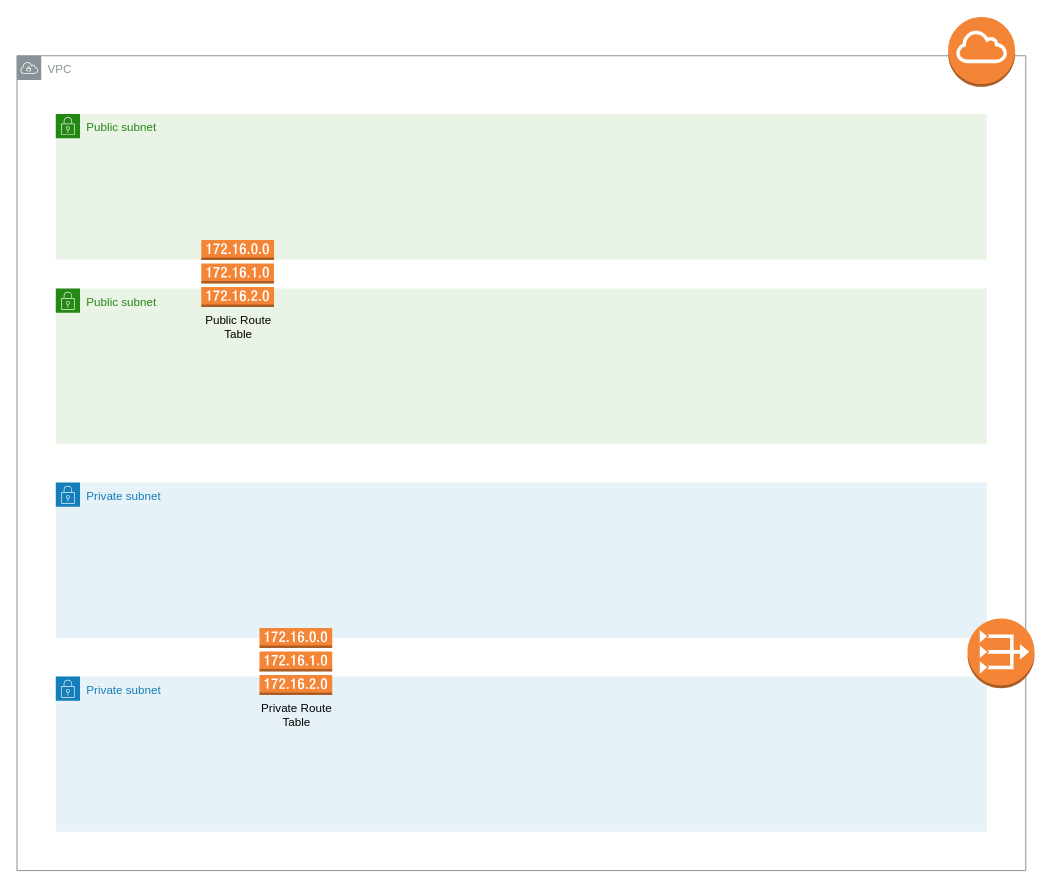
Image size: 1051x888. Some labels were removed from this diagram. Each missing label, with the centre of its shape:
"Internet Gateway" belongs at (x=981, y=51).
"Nat Gateway" belongs at (x=1001, y=652).
